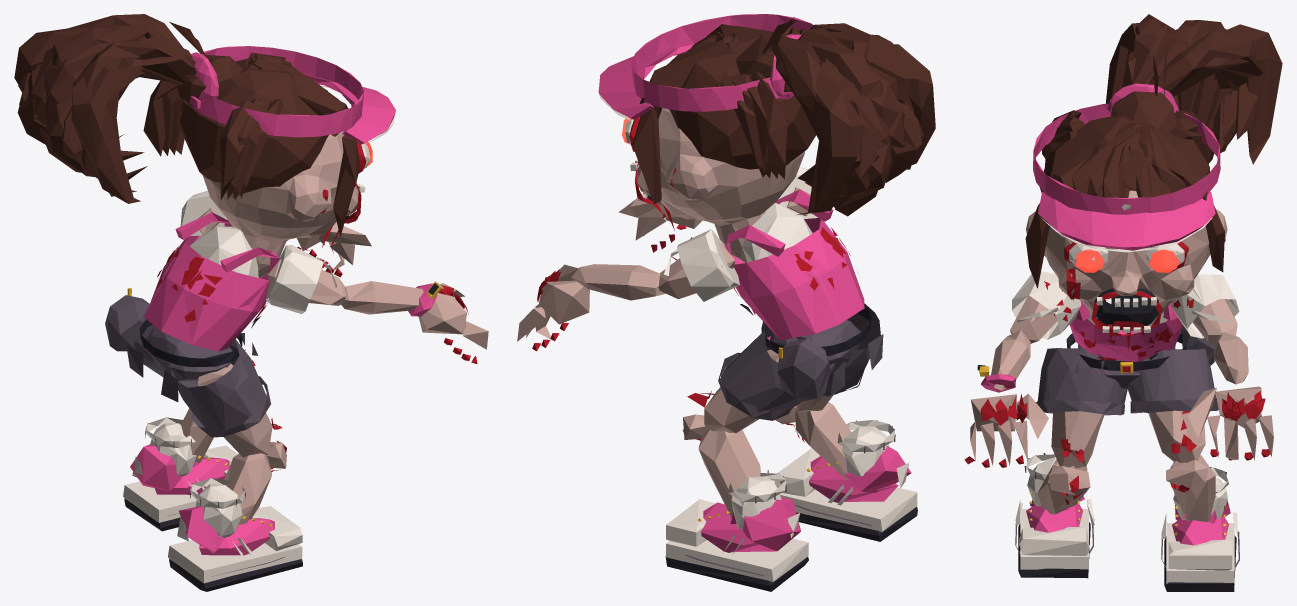
File: inf.jogger.lod1.glb
3 renders of one model, left to right at view 1: azimuth 30°, elevation 25°; view 2: azimuth 150°, elevation 25°; view 3: azimuth 270°, elevation 25°, orthographic. The views are drawn at different scales.
Parts seen in each view (by area): view 1: head, torso, footR, footL, legR, hip, armR, foreArmR, shinR, handR, handL, armL (+1 smaller); view 2: head, torso, footL, footR, legL, hip, armL, shinL, handL, shinR, foreArmL, legR (+2 smaller); view 3: head, legR, legL, footL, footR, handL, torso, handR, armR, armL, shinL, foreArmR (+3 smaller).
Part boxes in pixels (box(x1,y1,x2,y2)): head: box(14, 14, 395, 278); torso: box(144, 212, 279, 351); footR: box(168, 478, 302, 591); footL: box(123, 417, 237, 531); legR: box(171, 339, 282, 457); hip: box(105, 287, 258, 401); armR: box(265, 245, 346, 313); foreArmR: box(341, 281, 441, 316); shinR: box(224, 441, 286, 524); handR: box(418, 283, 488, 363); handL: box(297, 222, 371, 277); armL: box(180, 190, 227, 236); head: box(598, 14, 935, 262); torso: box(725, 189, 864, 346); footL: box(665, 470, 808, 591); footR: box(774, 420, 917, 541); legL: box(687, 327, 835, 433); hip: box(761, 305, 883, 401); armL: box(658, 229, 739, 301); shinL: box(682, 414, 760, 517); handL: box(517, 264, 589, 351); shinR: box(775, 402, 851, 480); foreArmL: box(571, 264, 665, 300); legR: box(796, 303, 880, 411); head: box(1025, 14, 1282, 351); legR: box(1036, 348, 1127, 468); legL: box(1127, 348, 1218, 462); footL: box(1161, 467, 1239, 591); footR: box(1015, 453, 1094, 578); handL: box(1188, 386, 1273, 460); torso: box(1069, 300, 1183, 373); handR: box(964, 393, 1048, 467); armR: box(1010, 271, 1081, 343); armL: box(1171, 274, 1239, 344); shinL: box(1166, 455, 1215, 522); foreArmR: box(977, 330, 1030, 392).
Size of the model in its own units: 1.2 by 1.66 by 0.9486.
